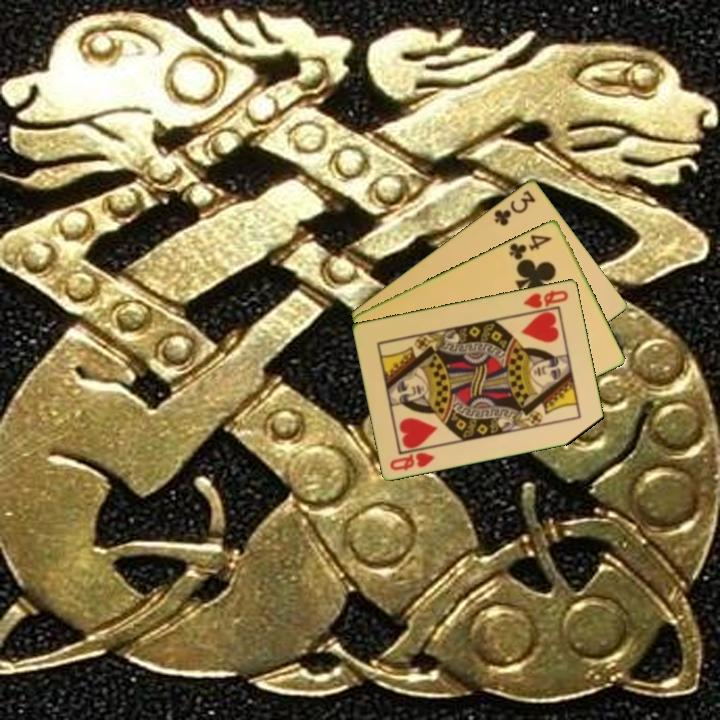3c: (490, 186, 539, 229)
4c: (506, 231, 555, 263)
Qh: (386, 448, 438, 473), (520, 286, 571, 311)
